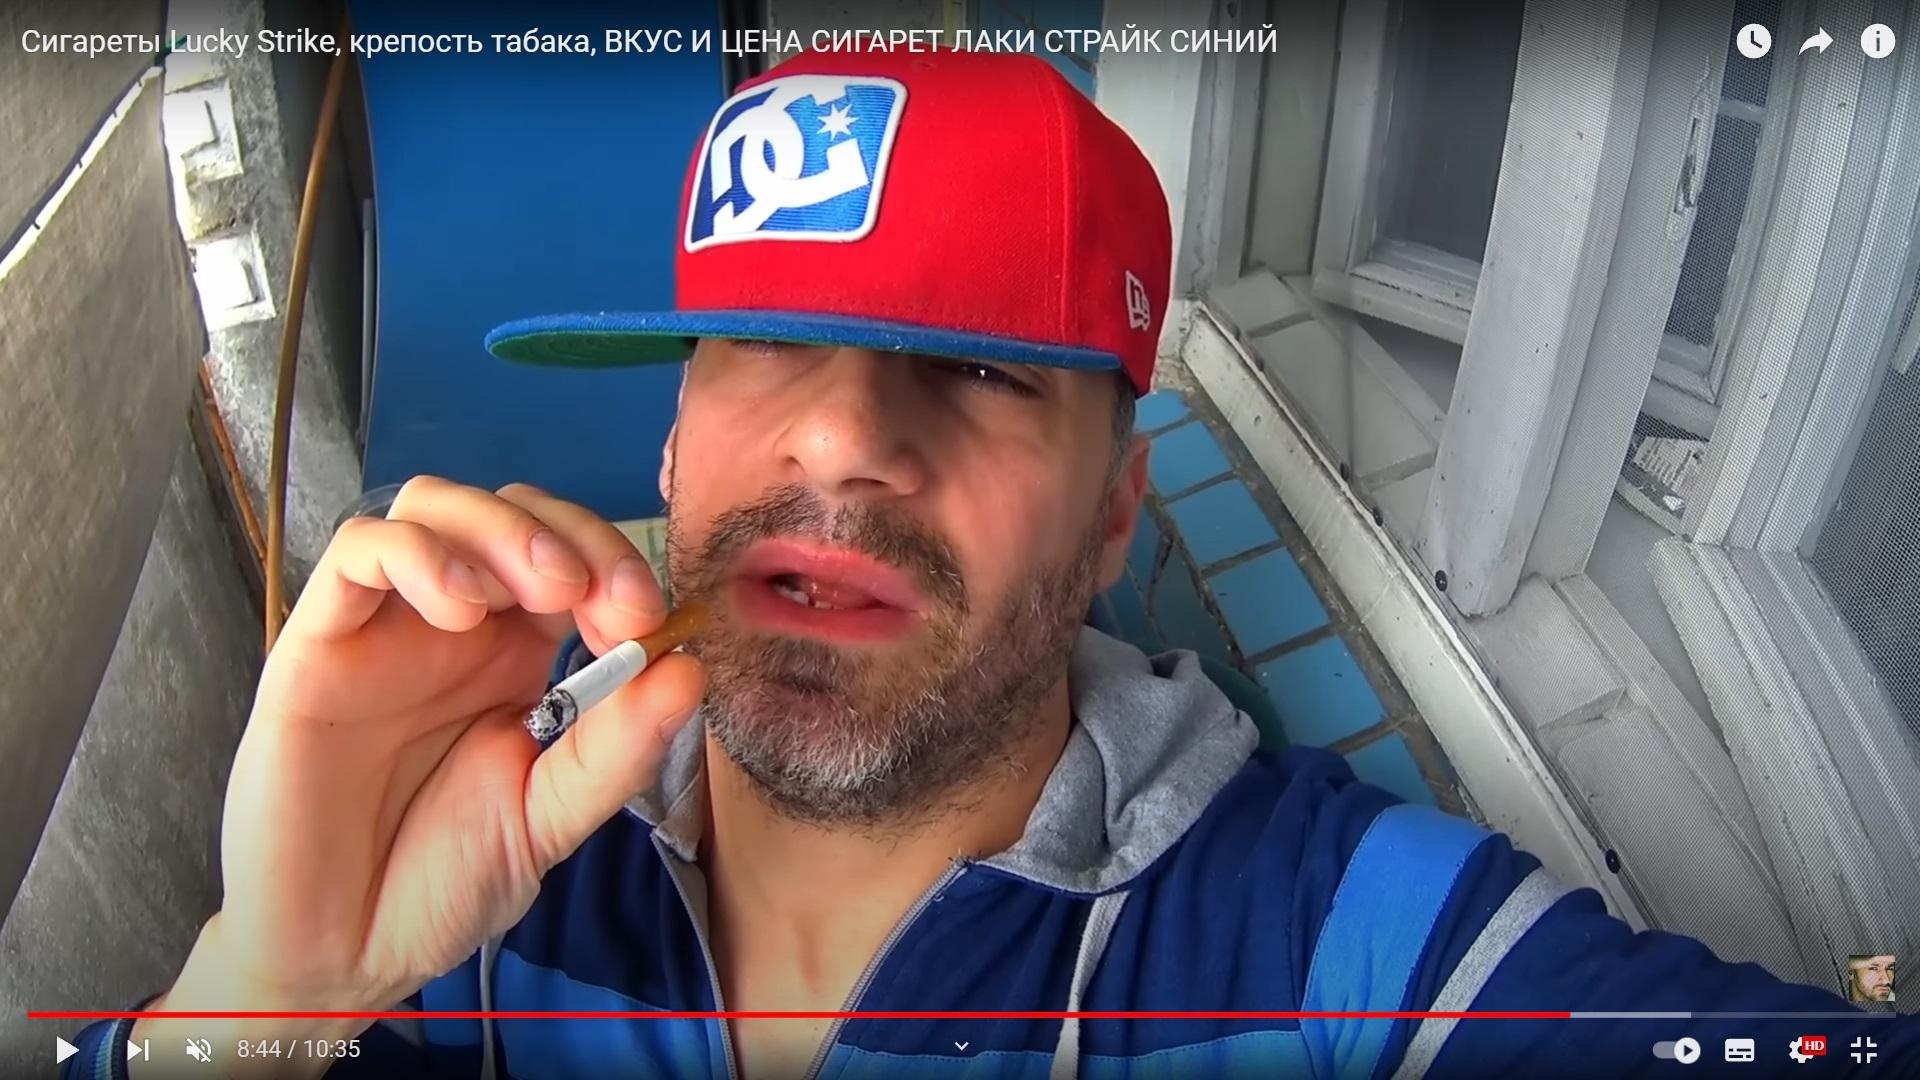cigarette: (524, 599, 711, 741)
